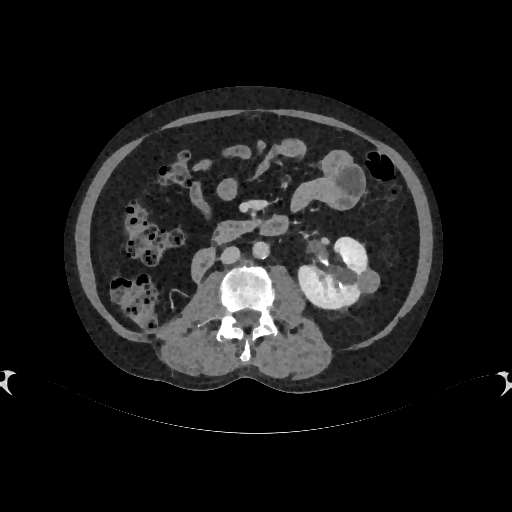Lesion: (354, 265, 382, 295)
